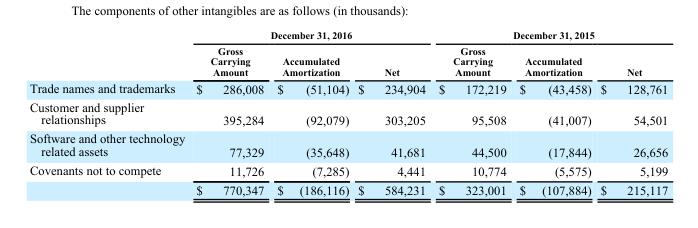table: (28, 28, 667, 196)
table column: (28, 28, 189, 196), (269, 28, 352, 196), (512, 28, 595, 196), (431, 28, 512, 196), (189, 28, 269, 196), (352, 28, 431, 196), (595, 28, 667, 196)
table column header: (28, 28, 667, 78)
table row: (28, 42, 667, 78), (28, 97, 667, 129), (28, 129, 667, 160), (28, 160, 667, 180), (28, 78, 667, 97), (28, 180, 667, 196), (28, 28, 667, 42)
table spanning cell: (189, 28, 431, 42), (431, 28, 667, 42)
